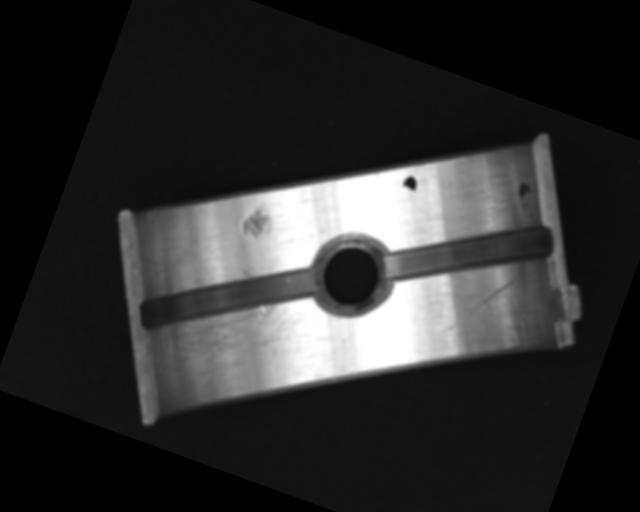blot: (514, 179, 535, 207), (399, 173, 420, 197)
bruise: (238, 197, 275, 242)
gap: (134, 218, 320, 376), (379, 178, 558, 327)
hole: (302, 222, 402, 326)
nick: (441, 258, 518, 352)
scratch: (163, 261, 305, 400)
